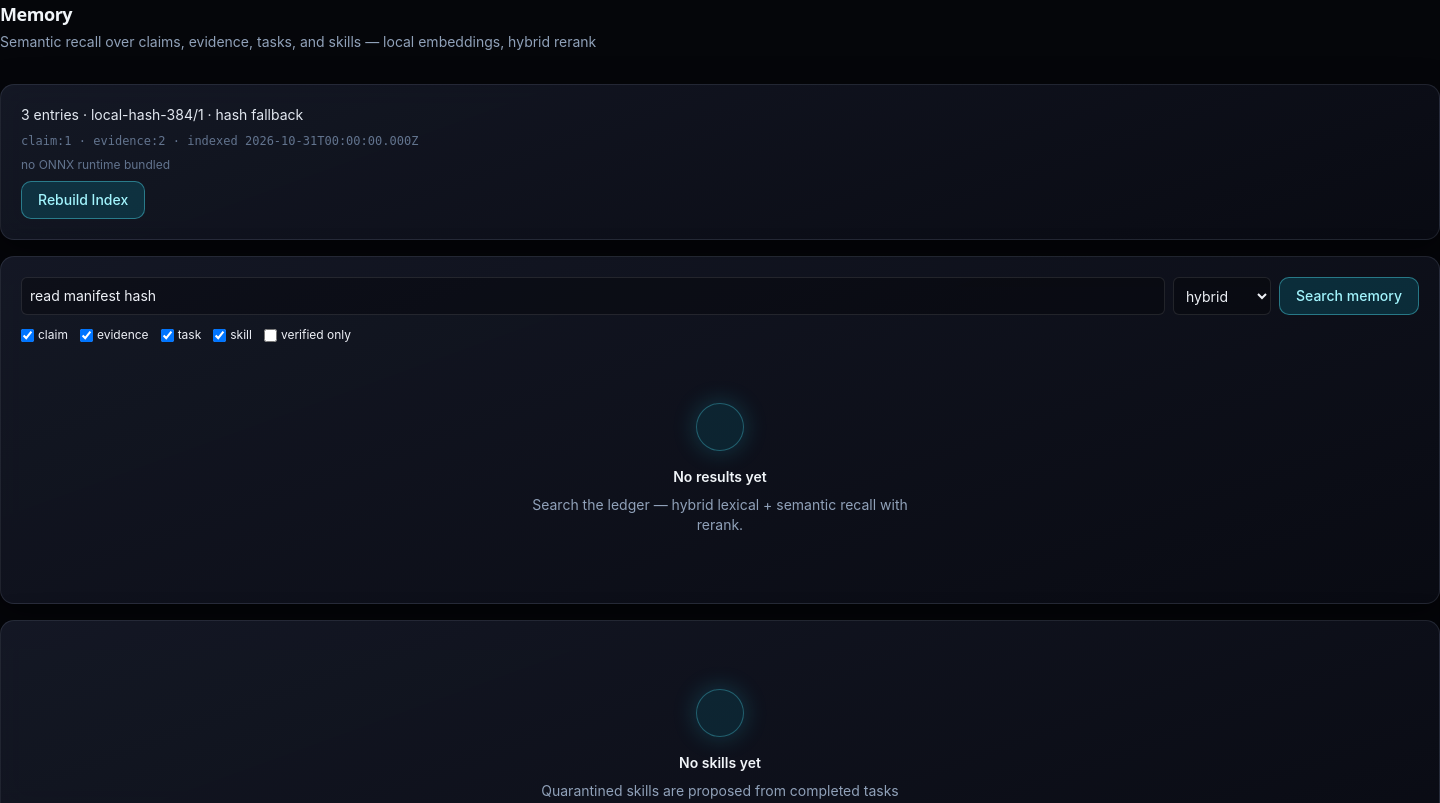
Test: MemoryPage › searches memory and renders scored results
Click the button "Search memory": (1349, 296) 1279,277 -> 1419,315
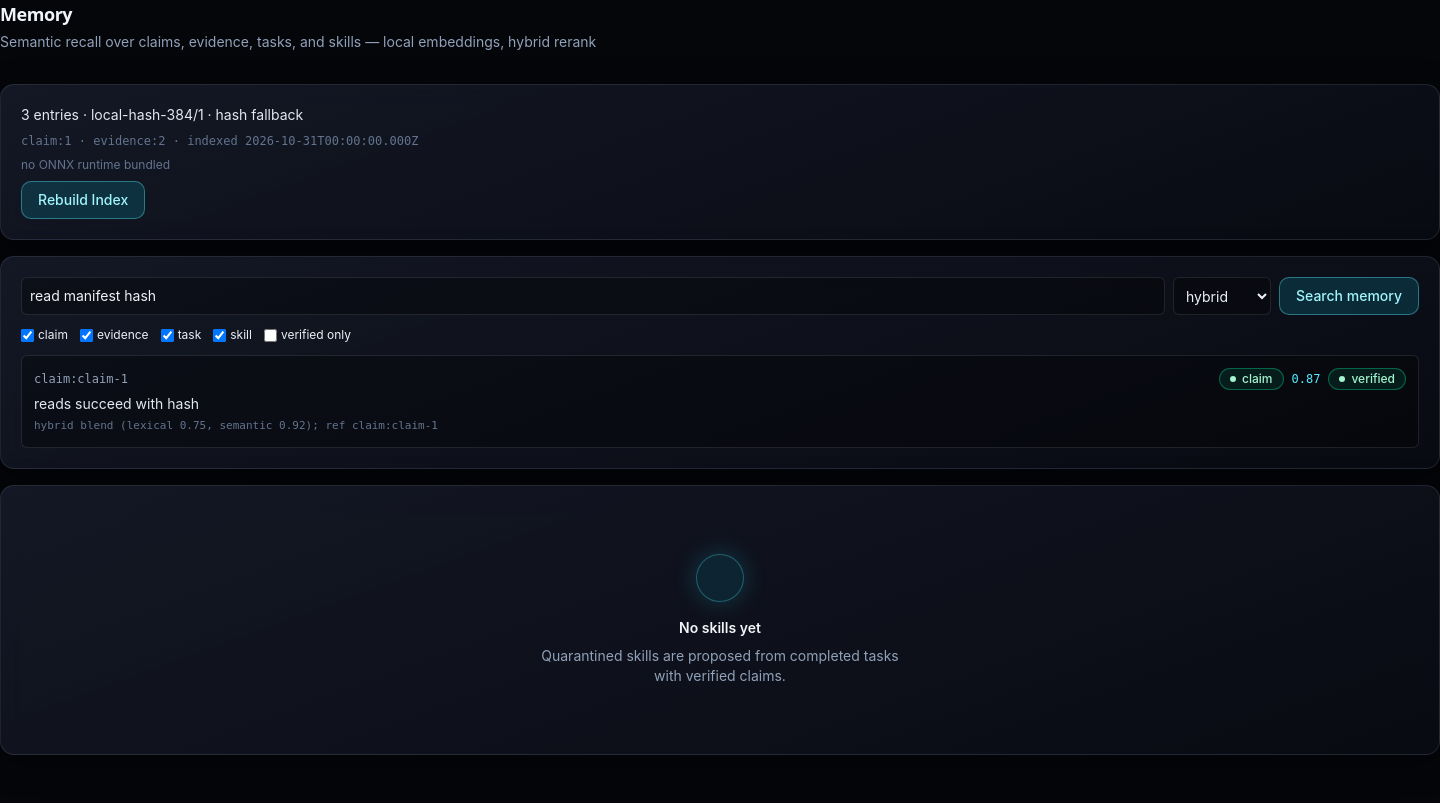
Expected: the text "reads succeed with hash" is shown, 34,395 -> 199,412
Expected: the text "0.87" is shown, 1292,371 -> 1320,387
Expected: the text "verified" is shown, 1328,368 -> 1406,390
